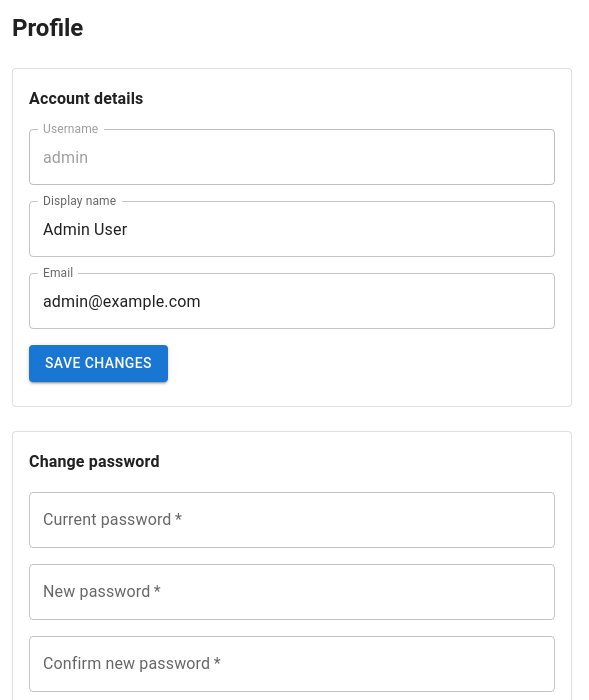
Test case: ProfilePage › shows an error when profile save fails
Expected: the field showing "Admin User" is shown, left=29, top=201, right=555, bottom=257
Click the button "Save changes" at (98, 363), box left=29, top=345, right=168, bottom=382
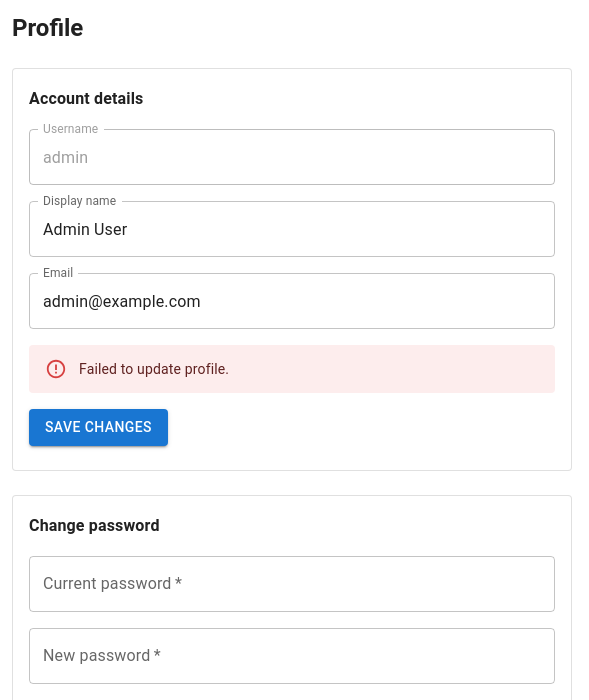
Result: the text "Failed to update profile." is shown at left=79, top=361, right=229, bottom=377
